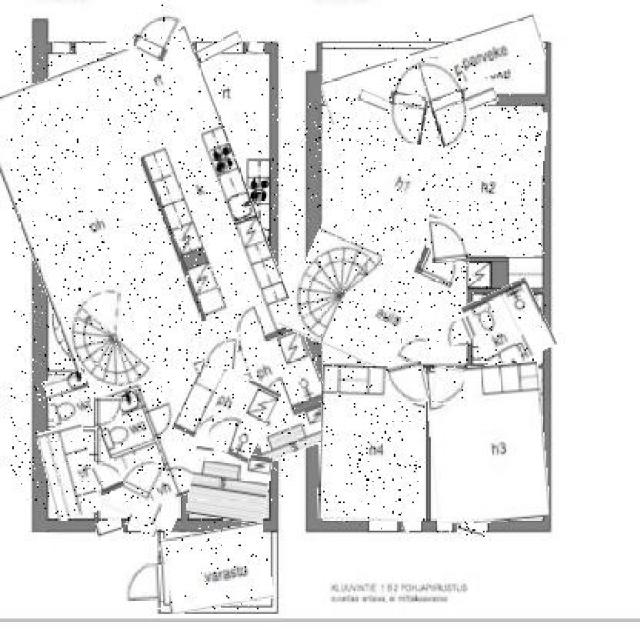door: (423, 56, 475, 146), (386, 55, 431, 143), (134, 1, 180, 62), (126, 566, 169, 609), (429, 219, 468, 263), (389, 362, 428, 404), (125, 456, 162, 498), (208, 409, 242, 451), (432, 368, 465, 404), (206, 332, 237, 370), (91, 461, 123, 494), (438, 319, 477, 346), (90, 397, 122, 426)
window: (194, 37, 243, 58), (77, 41, 134, 54), (464, 89, 498, 109), (126, 517, 159, 534), (358, 92, 389, 110), (97, 518, 121, 540), (459, 521, 486, 537), (432, 95, 462, 108), (392, 97, 423, 106), (52, 41, 70, 54), (246, 43, 265, 54), (402, 520, 418, 532), (435, 523, 454, 532), (370, 523, 396, 529)
zone: (11, 40, 306, 502), (300, 97, 489, 374), (428, 365, 546, 523), (322, 31, 546, 109), (430, 103, 544, 255), (318, 364, 424, 522), (162, 526, 270, 611), (178, 366, 274, 456), (468, 283, 550, 369), (189, 449, 269, 523), (43, 426, 99, 519), (98, 488, 178, 526), (46, 372, 96, 426)
